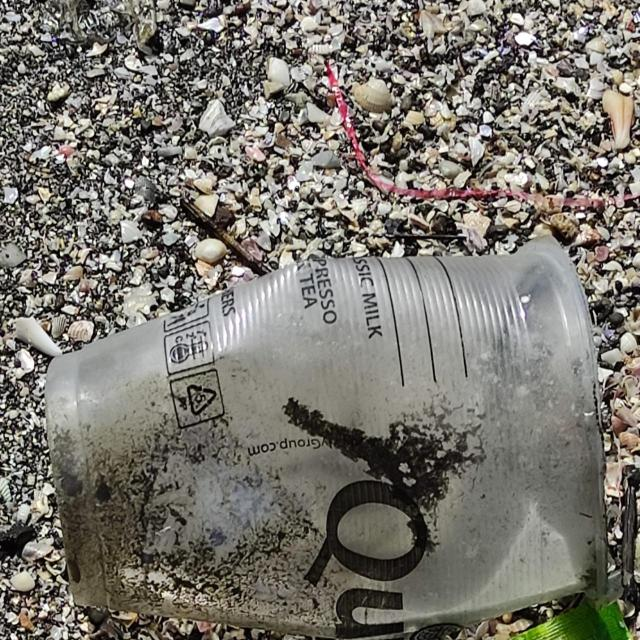plastic_waste: (43, 233, 613, 640)
